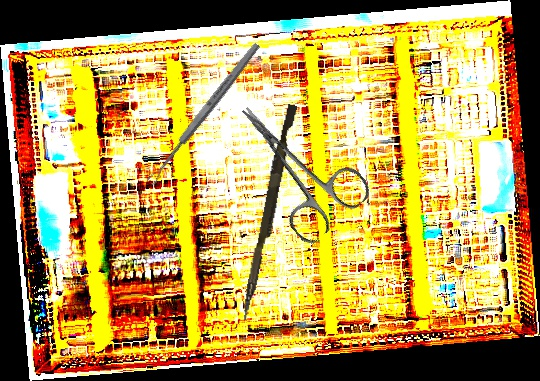Iris Scissors: (213, 79, 376, 248)
Pusher: (240, 103, 298, 322)
Surgical Spoon: (145, 41, 262, 186)
